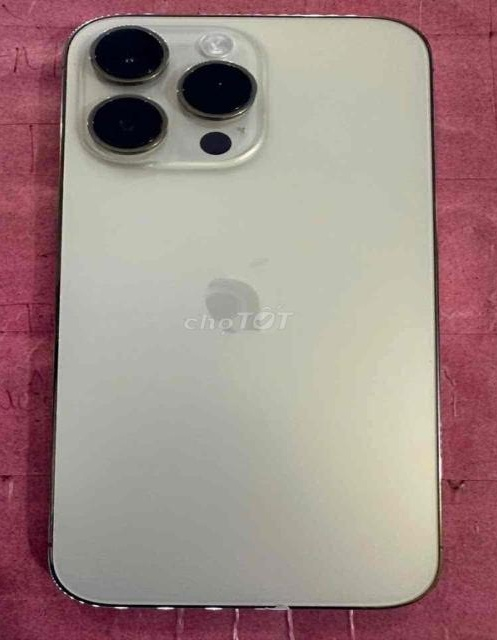physical_damage: (34, 3, 460, 619)
